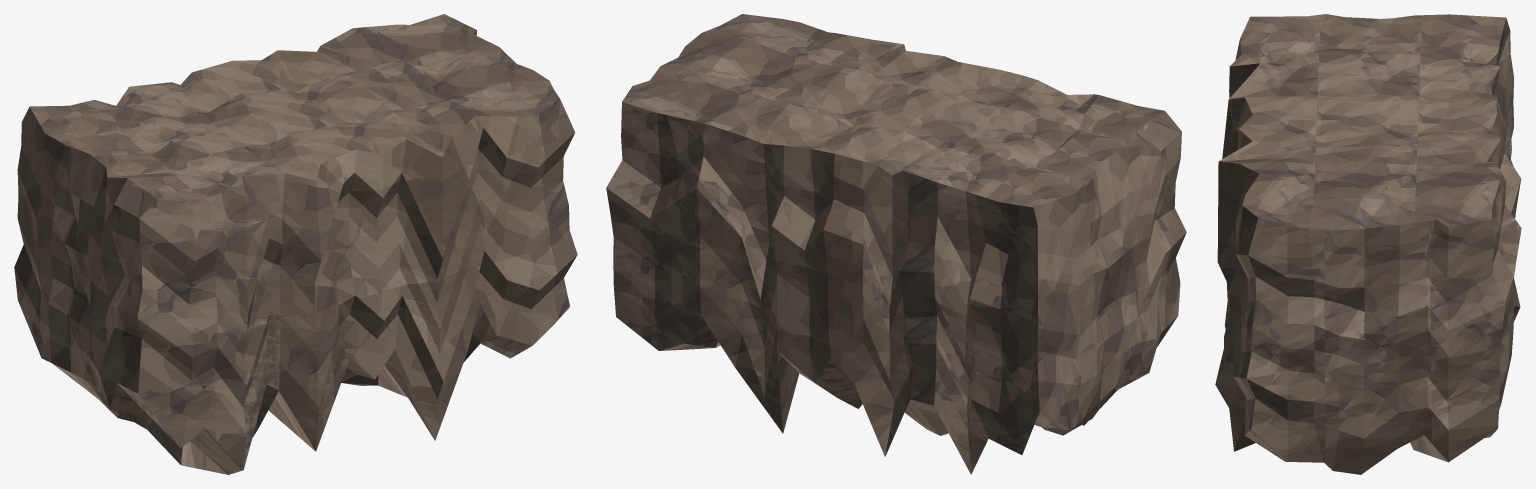
Rendered from Piattaforma Rocciosa.fbx.
The picture shows the model from 3 angles, left to right: view 1: azimuth 30°, elevation 25°; view 2: azimuth 150°, elevation 25°; view 3: azimuth 270°, elevation 25°; orthographic projection. The views are drawn at different scales.
Parts seen in each view (by area): view 1: Cube; view 2: Cube; view 3: Cube.
Part boxes in pixels (left/top/right/bottom): Cube: left=14, top=14, right=577, bottom=474; Cube: left=606, top=14, right=1186, bottom=474; Cube: left=1215, top=14, right=1521, bottom=474.
Bounding box in the file's own units: 487 × 314 × 284.
